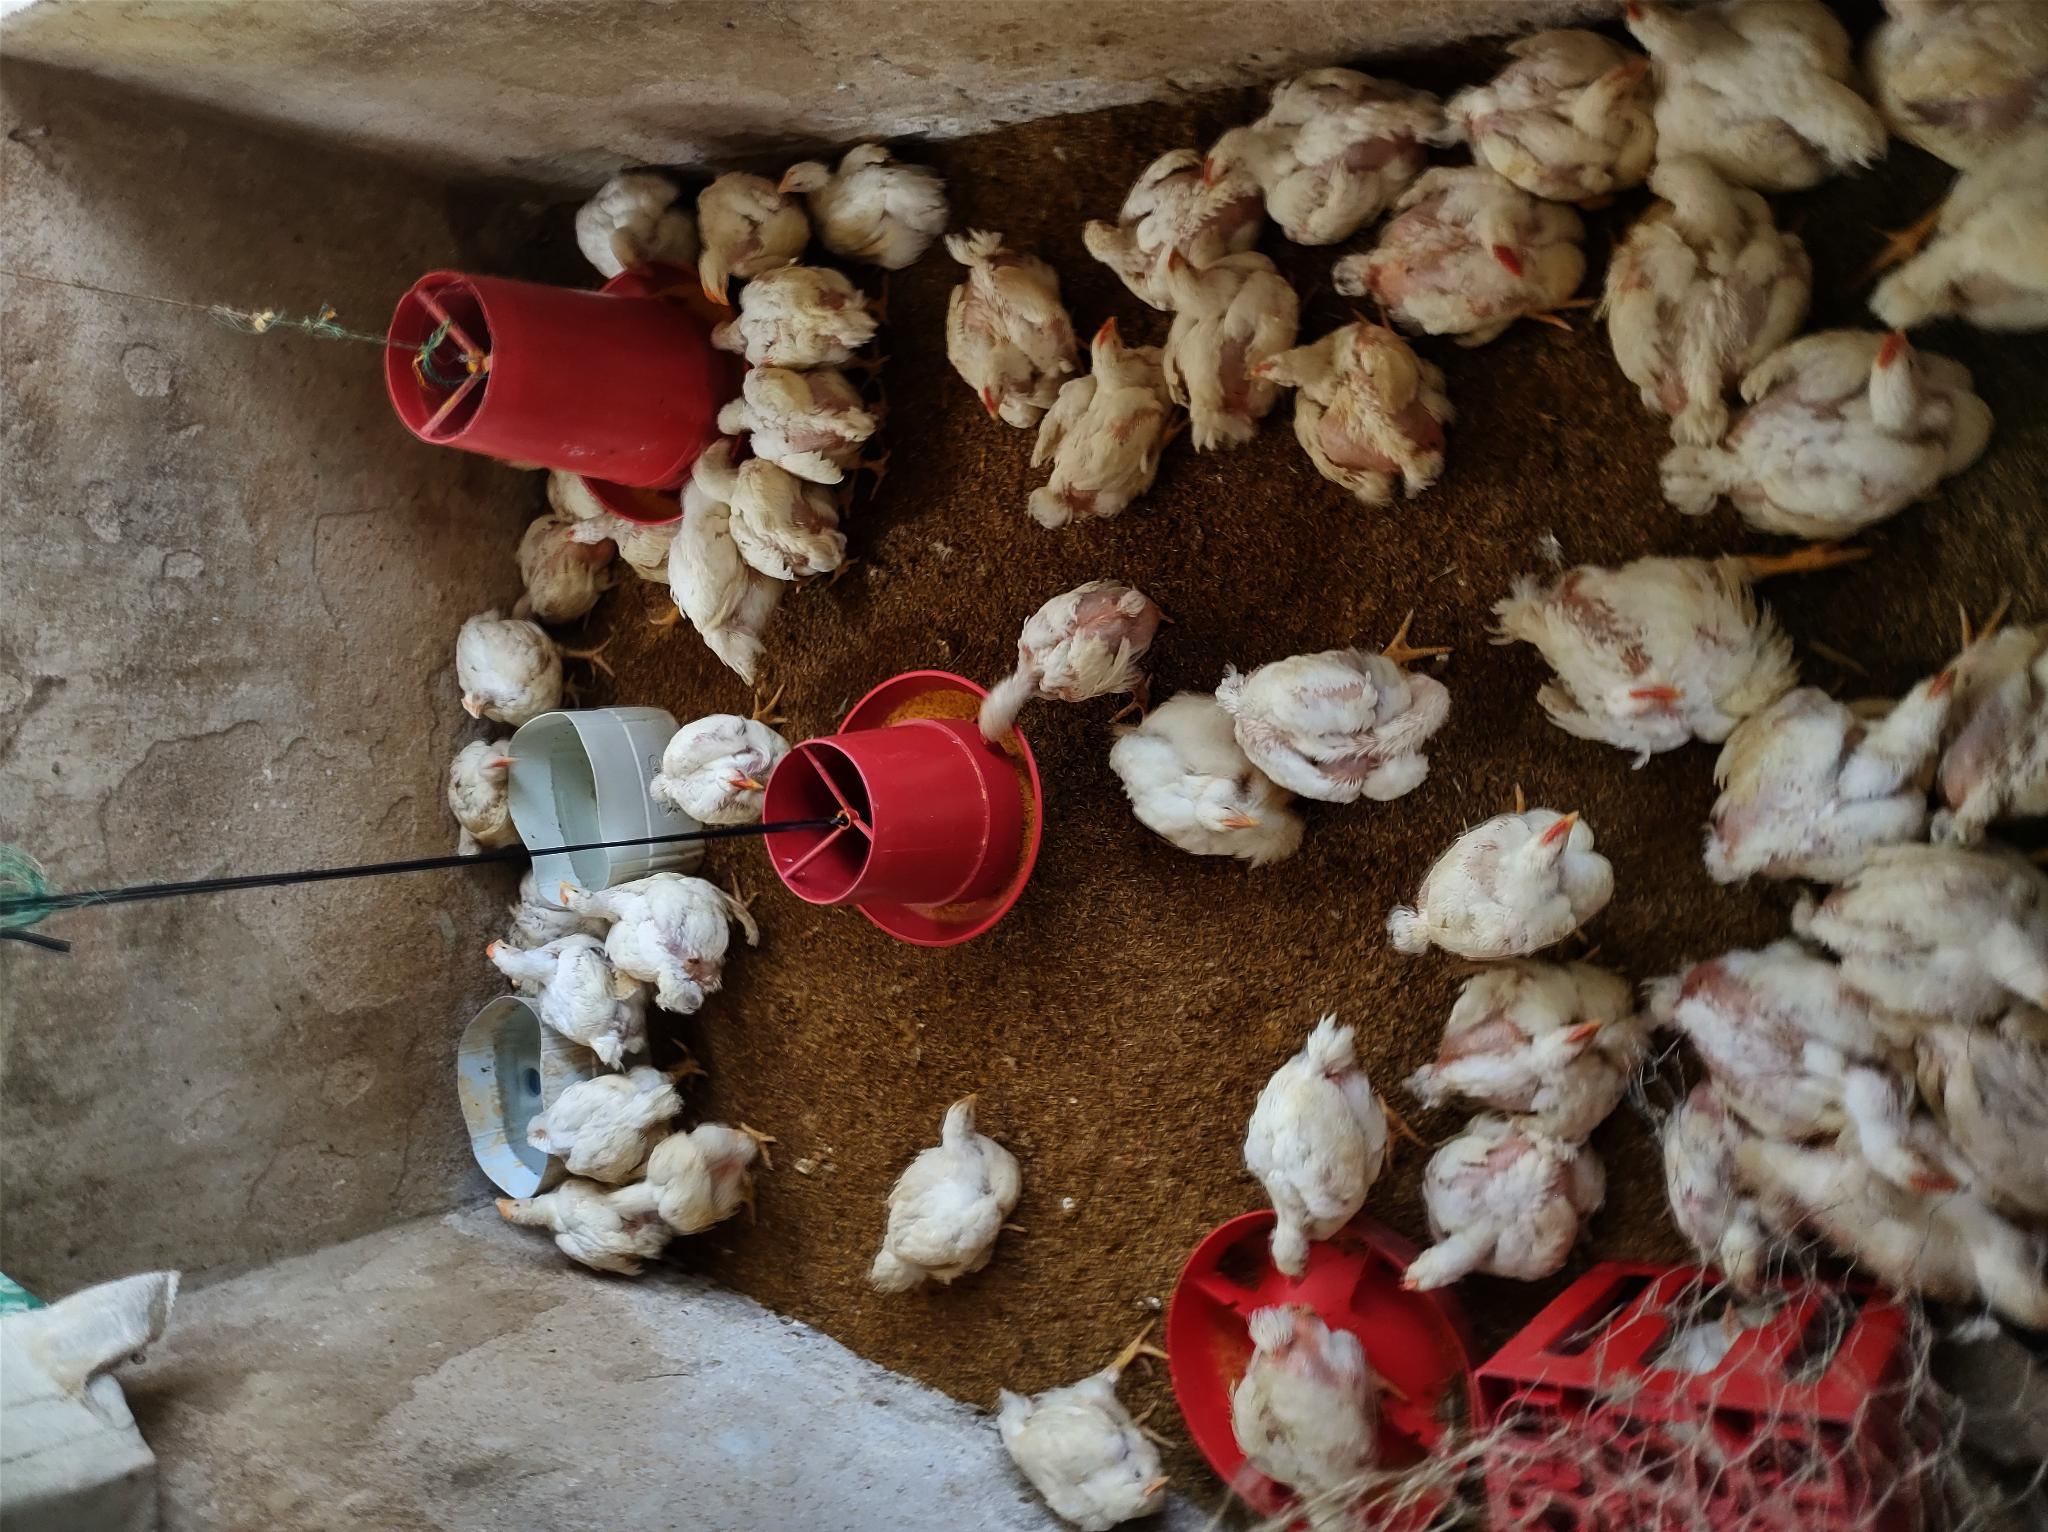Pollos: (1647, 940, 1969, 1197), (1665, 323, 1988, 529), (1704, 665, 1964, 879), (1602, 158, 1807, 426), (1498, 558, 1786, 748), (1778, 1131, 2048, 1326), (1618, 0, 1886, 188), (1795, 838, 2048, 1012), (1195, 63, 1433, 246), (1339, 167, 1589, 341), (1425, 23, 1660, 200), (1239, 1017, 1393, 1279), (1417, 961, 1649, 1133), (1224, 1300, 1395, 1530), (1247, 311, 1453, 500), (1387, 801, 1622, 957), (1400, 1123, 1598, 1299), (857, 1086, 1023, 1291), (1110, 690, 1306, 859), (972, 571, 1162, 745), (1232, 652, 1450, 803), (1863, 158, 2048, 333), (1660, 1073, 1802, 1291), (1866, 0, 2048, 169), (1026, 317, 1168, 531), (1076, 145, 1256, 311), (1158, 235, 1305, 434), (994, 1371, 1178, 1524), (941, 229, 1080, 428), (557, 869, 734, 1014), (664, 470, 780, 686), (479, 924, 644, 1072), (687, 443, 845, 578), (767, 140, 940, 262), (713, 364, 883, 478), (483, 1183, 668, 1286), (524, 1073, 684, 1188), (615, 1125, 775, 1236), (705, 272, 877, 372), (648, 710, 792, 826), (689, 163, 808, 299), (573, 169, 693, 280), (450, 603, 558, 726), (512, 520, 618, 613), (441, 735, 523, 855)
